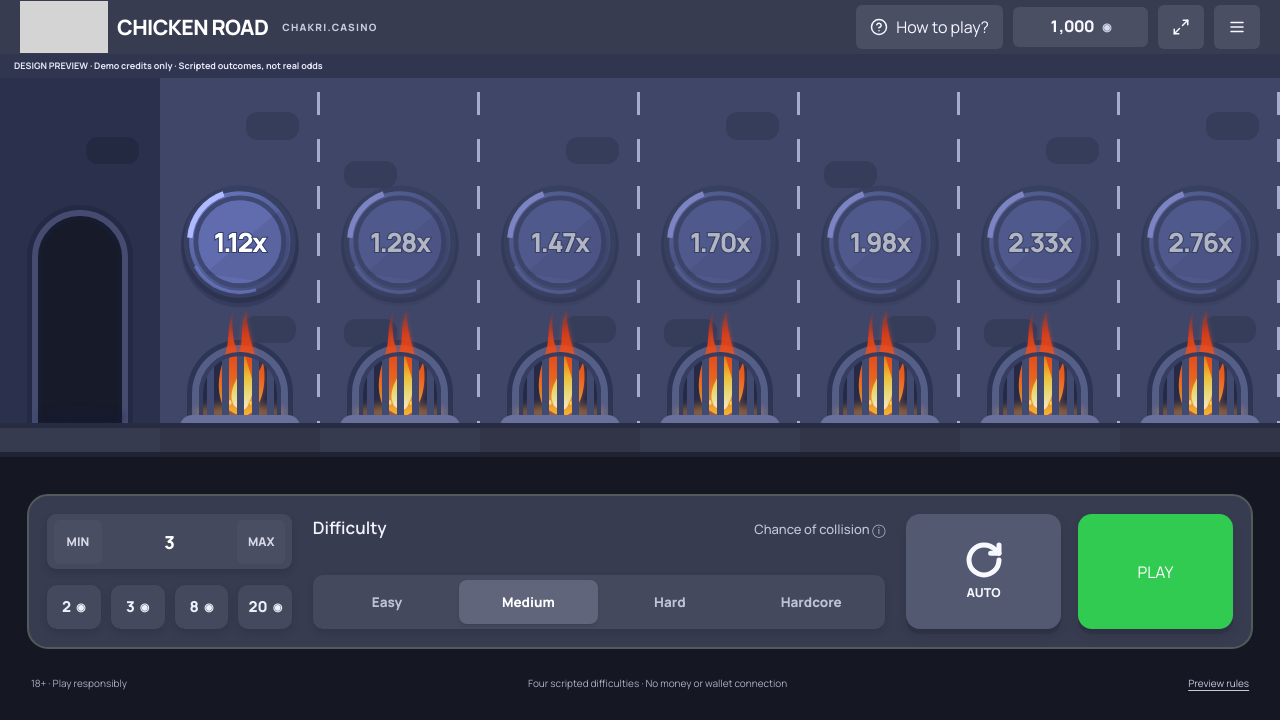
Play attempts lane one and reveals its 1.12 multiplier after the 480 ms crossing
Later steps or results of the test are not shown.
Click the button "Play". click: (1155, 572)
box: [1078, 514, 1233, 629]
Wait 480 ms
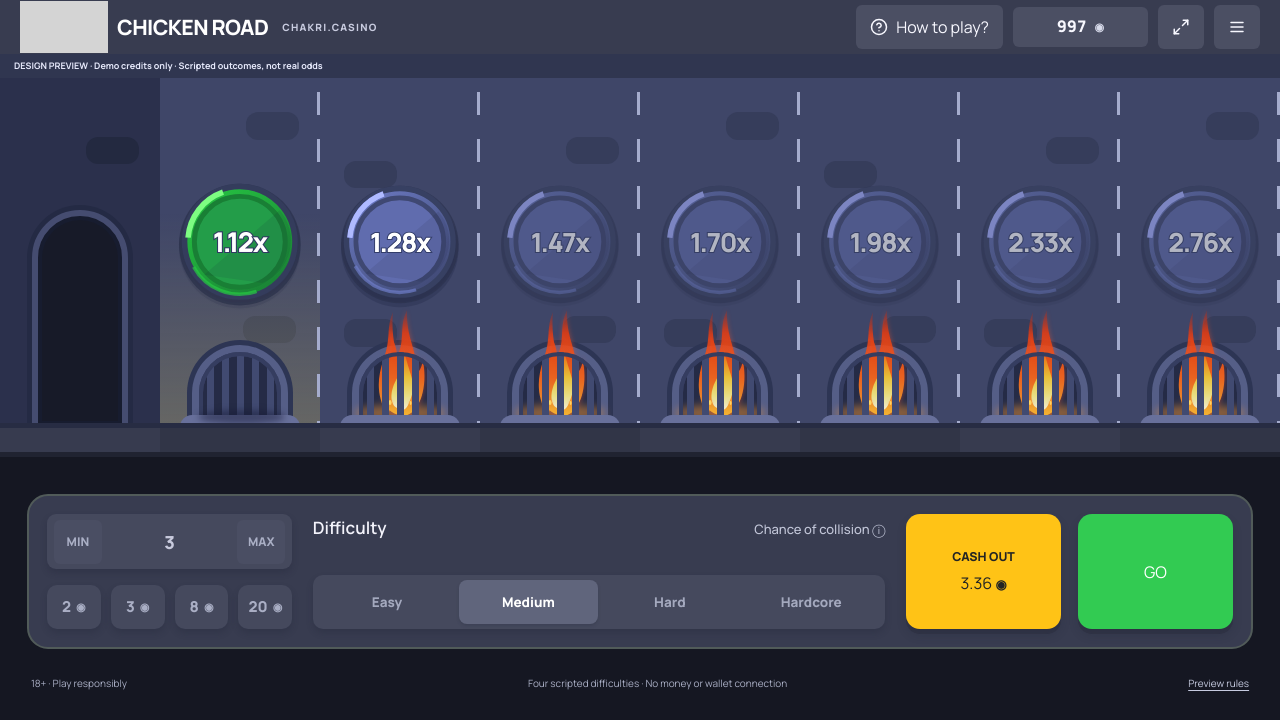
Expected: the picture named "1.12 times, current multiplier" is shown, [177, 179, 303, 305]
Now the button with test id "road-cashout" shows "3.36", box [906, 514, 1061, 629]
